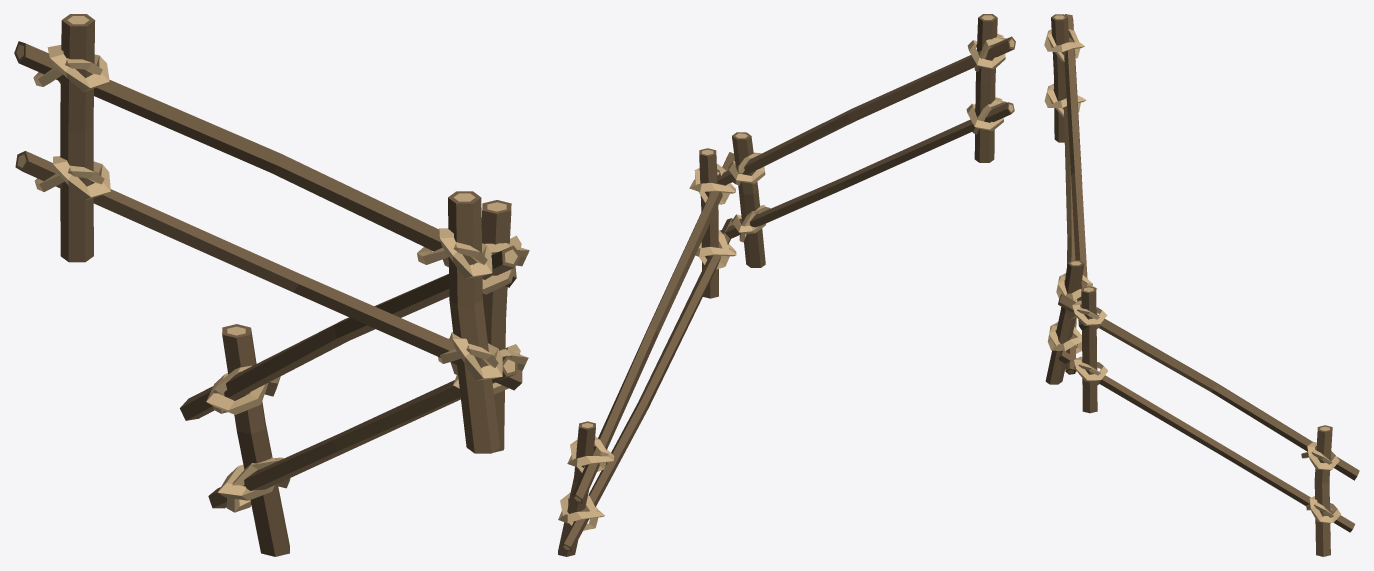
Rendered from rpgpp_ag_wall_platform_stairs_01b_4m_handrail_02.fbx.
The picture shows the model from 3 angles, left to right: view 1: azimuth 30°, elevation 25°; view 2: azimuth 150°, elevation 25°; view 3: azimuth 270°, elevation 25°; orthographic projection. The views are drawn at different scales.
Visible parts, largest first — view 1: rpgpp_ag_wall_platform_stairs_01b_4m_handrail_02; view 2: rpgpp_ag_wall_platform_stairs_01b_4m_handrail_02; view 3: rpgpp_ag_wall_platform_stairs_01b_4m_handrail_02.
Part boxes in pixels (x1,y1,x2,y2): rpgpp_ag_wall_platform_stairs_01b_4m_handrail_02: (14, 14, 529, 556); rpgpp_ag_wall_platform_stairs_01b_4m_handrail_02: (558, 14, 1015, 556); rpgpp_ag_wall_platform_stairs_01b_4m_handrail_02: (1044, 14, 1359, 556).
Size of the model in its own units: 3.41 by 5.14 by 3.48.
